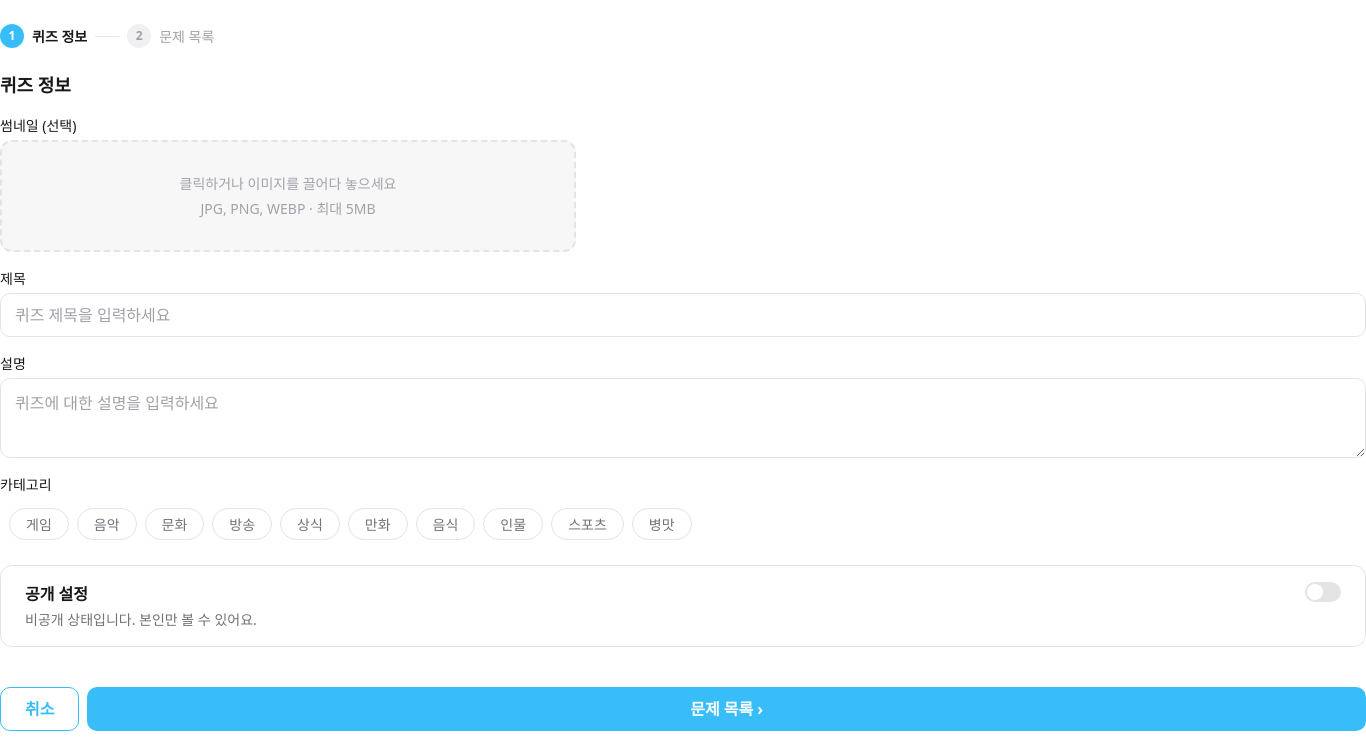
QuizCreatePage › STEP 1 → STEP 2 전환 › 빈 폼에서 "문제 목록 ›" 클릭 → 에러 메시지 3종 노출 + step 유지
This screenshot has width=1366, height=753.
Click the button "문제 목록 ›".
click(727, 709)  # box top-left (88, 687), bottom-right (1365, 731)
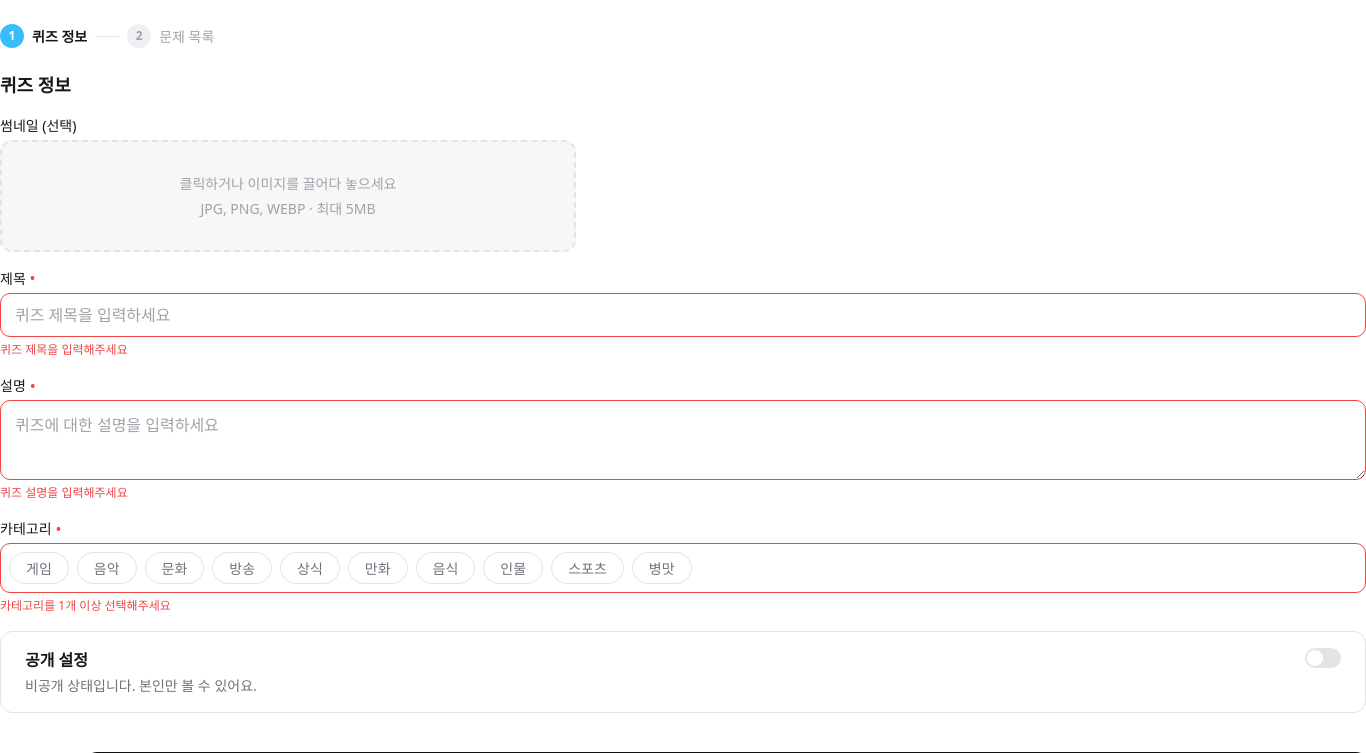
Expected: the text "퀴즈 제목을 입력해주세요" is shown, top-left (0, 341), bottom-right (128, 358)
Expected: the text "퀴즈 설명을 입력해주세요" is shown, top-left (0, 484), bottom-right (128, 501)
Expected: the text "카테고리를 1개 이상 선택해주세요" is shown, top-left (0, 597), bottom-right (171, 614)
